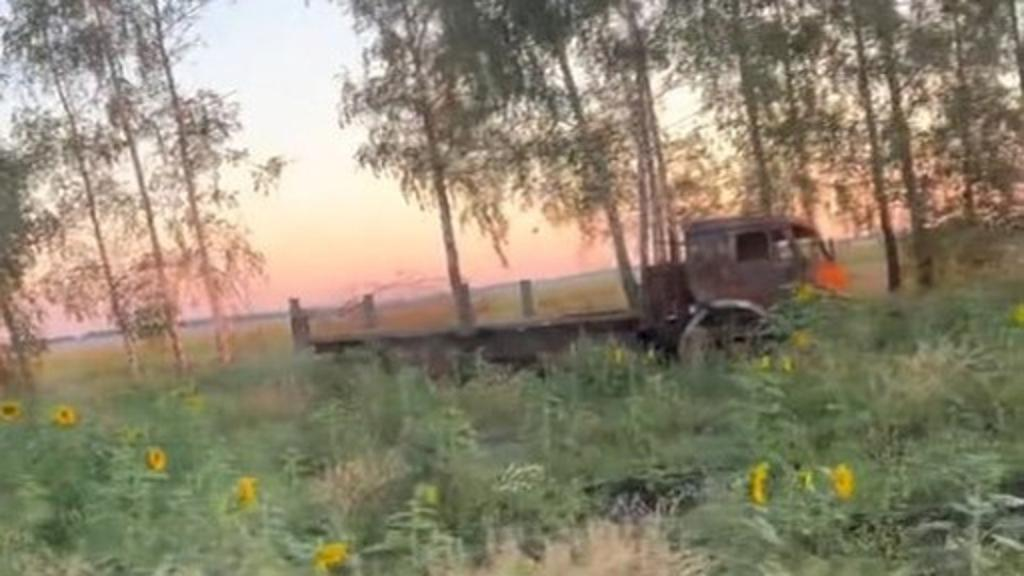TRUCK: (288, 204, 846, 404)
